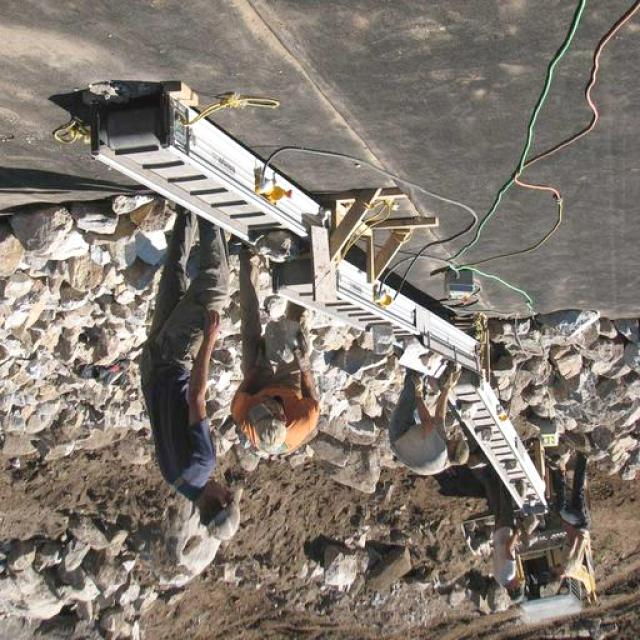conveyor: (91, 107, 552, 508)
